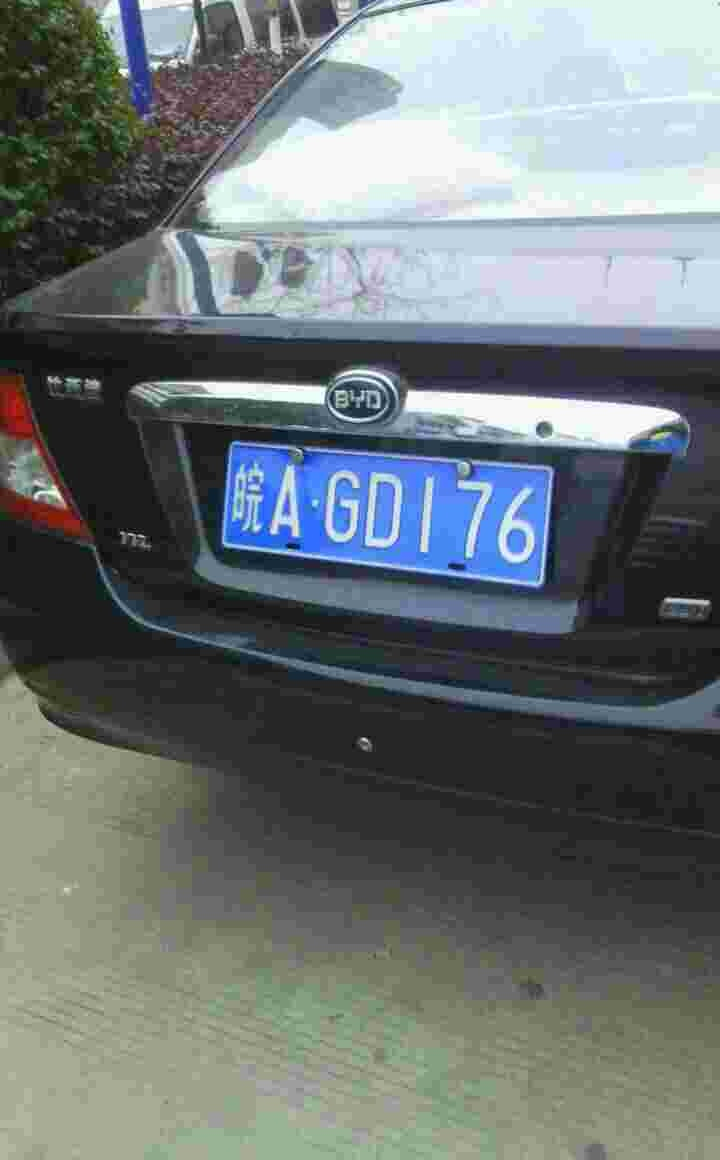license_plate: (220, 446, 549, 581)
